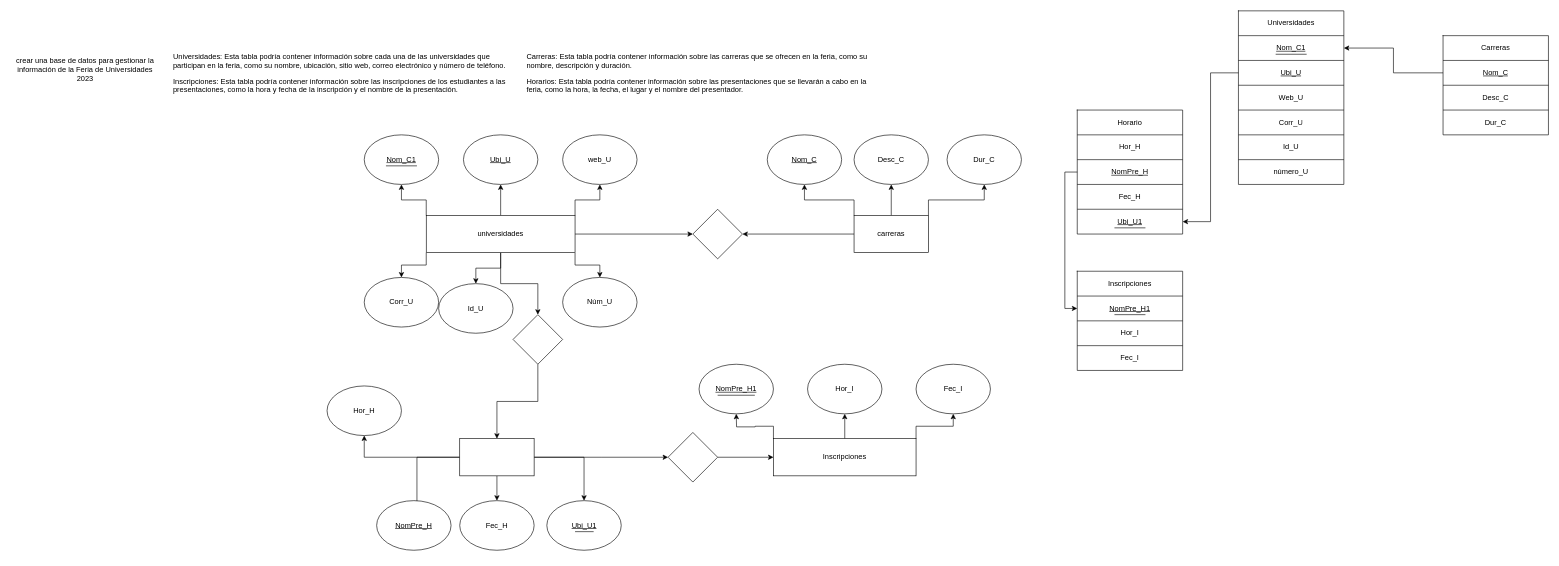
The diagram is 1559 pixels wide and 566 high, and some of its shapes have lost their labels. The shapes that lost their labels are listed below. From the top down, each one's centre as x and y in pixels, then its label:
At (x=717, y=234): "M:M".
At (x=537, y=339): "M:N".
At (x=496, y=457): "Horarios".
At (x=692, y=457): "N:N".
